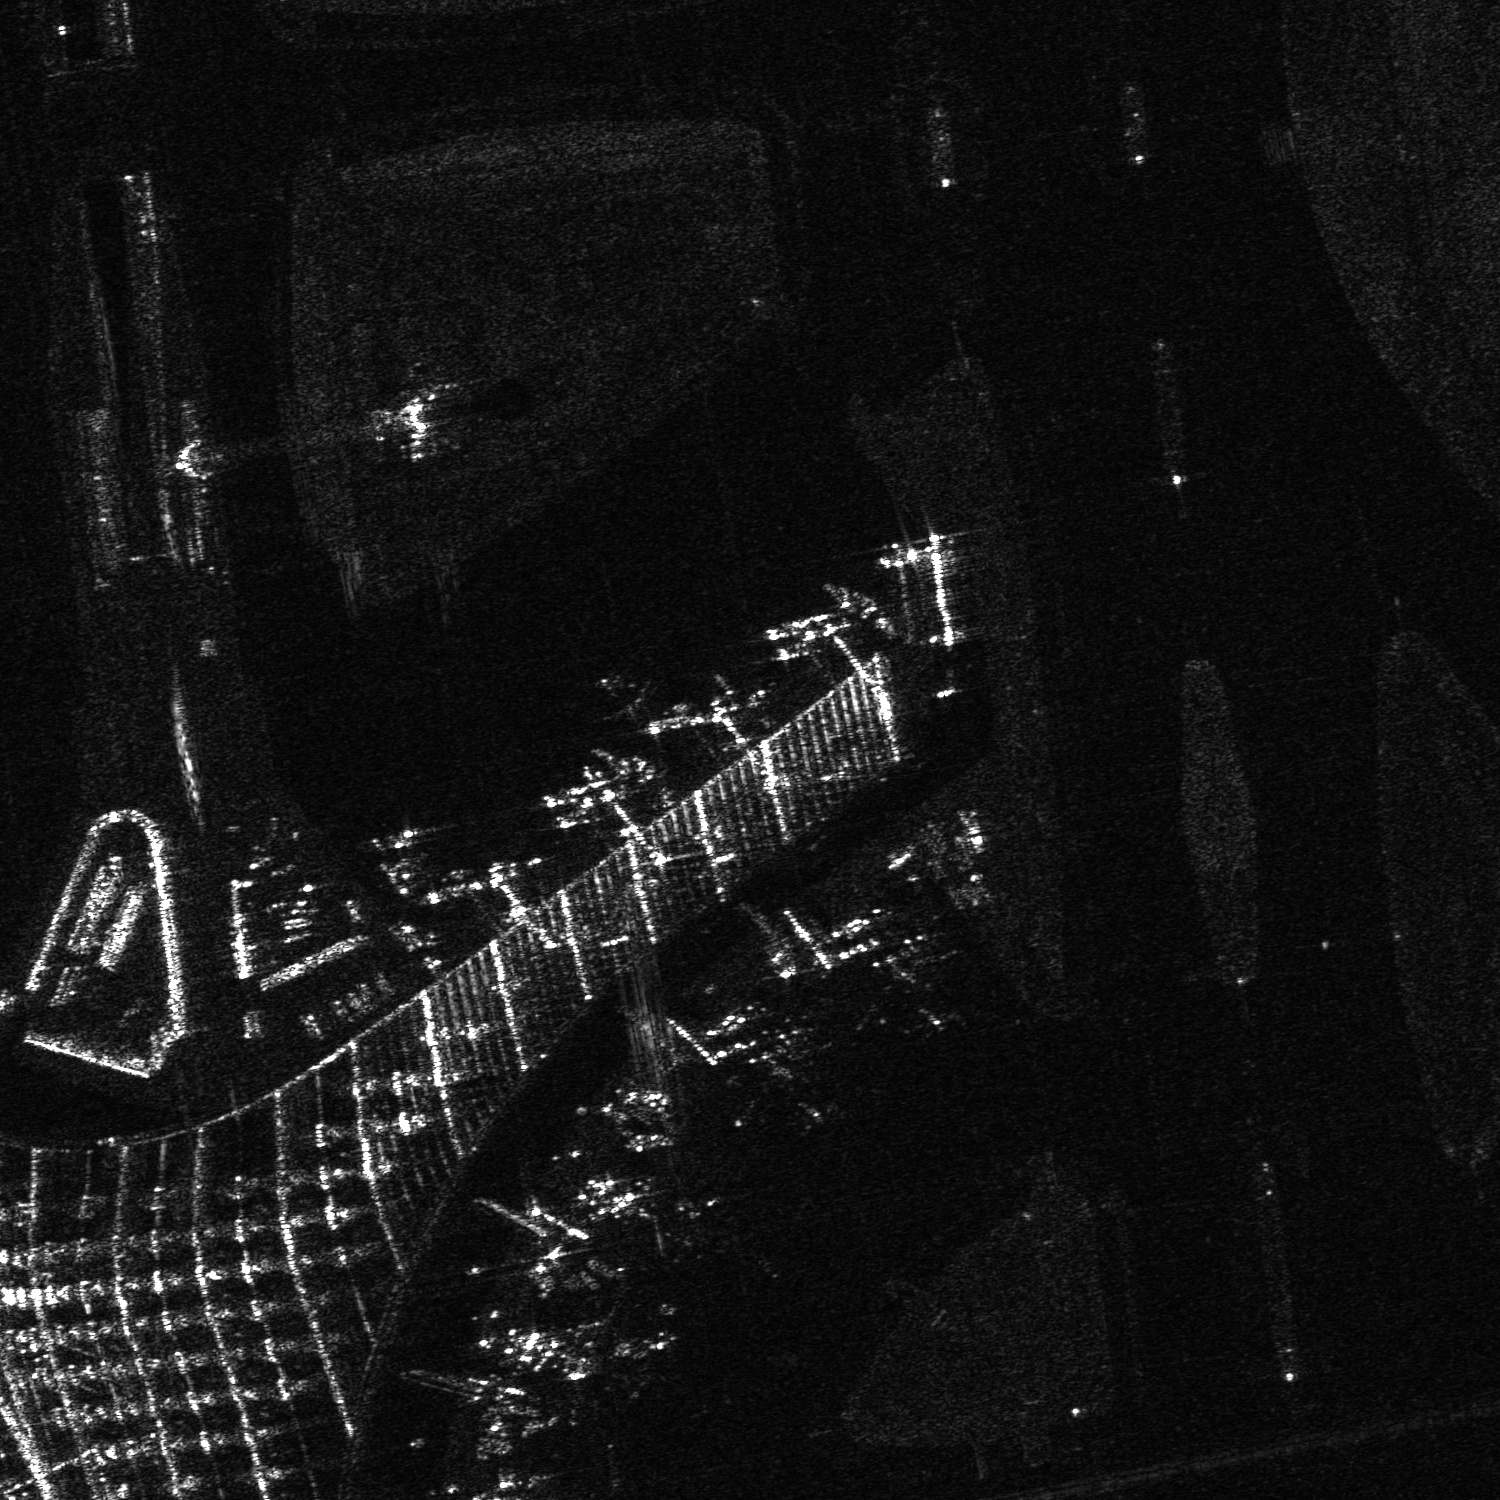Boeing787: (736, 1038, 834, 1125), (636, 1183, 723, 1269), (593, 669, 657, 723)
other: (854, 944, 959, 1032)
